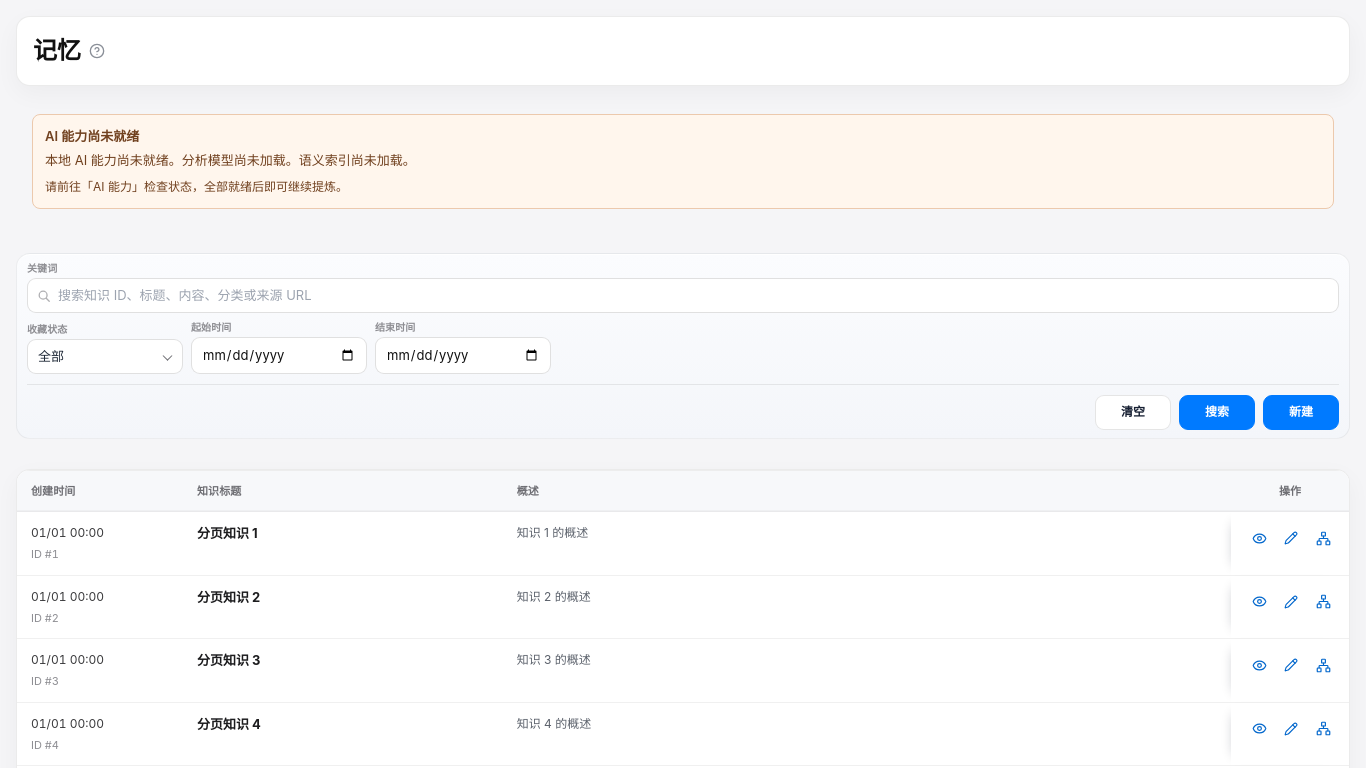
知识记忆分页 › 已收藏筛选中取消收藏后从下一页补齐 10 条，并同步筛选总数
Select "已收藏" in the dropdown labelled "收藏状态" at (105, 356), box [27, 339, 183, 374]
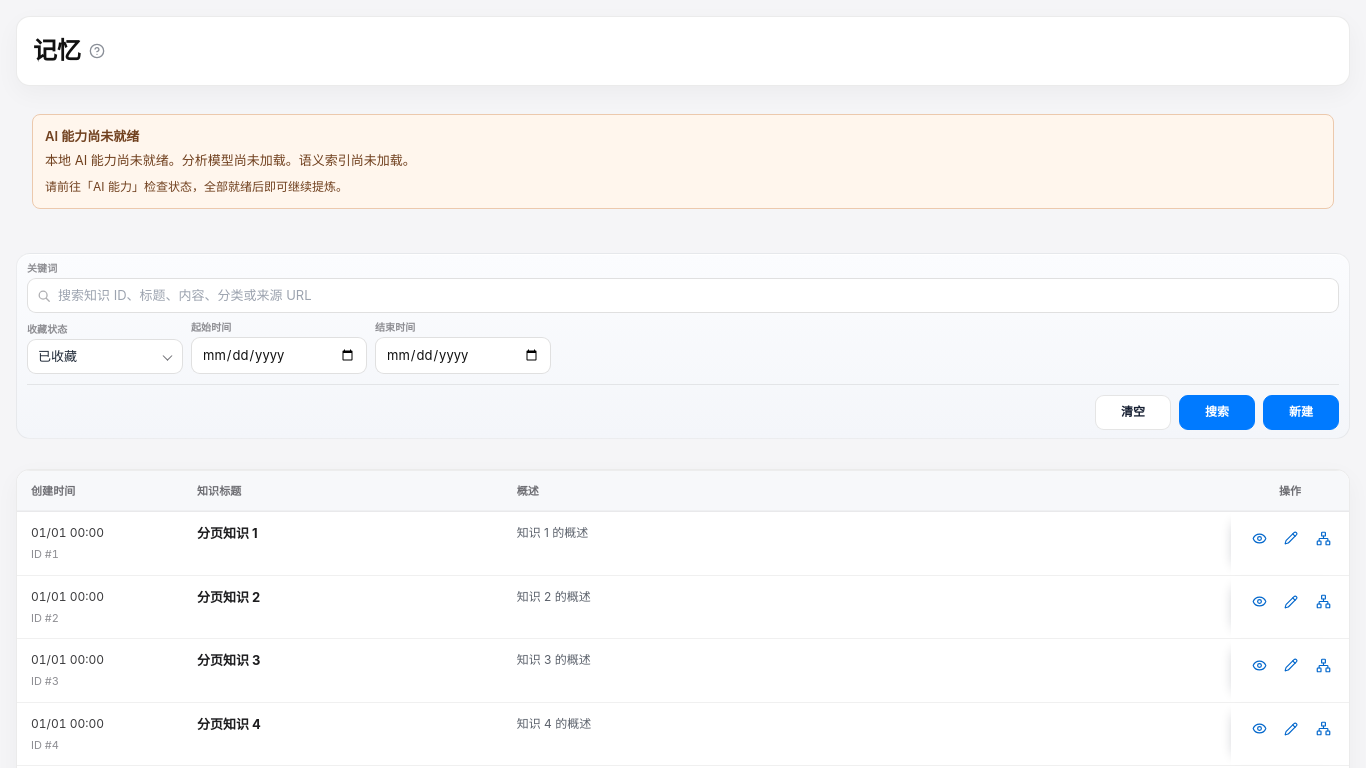
Click the button named "查看知识「分页知识 1」详情" at (1259, 538), box [1245, 524, 1273, 552]
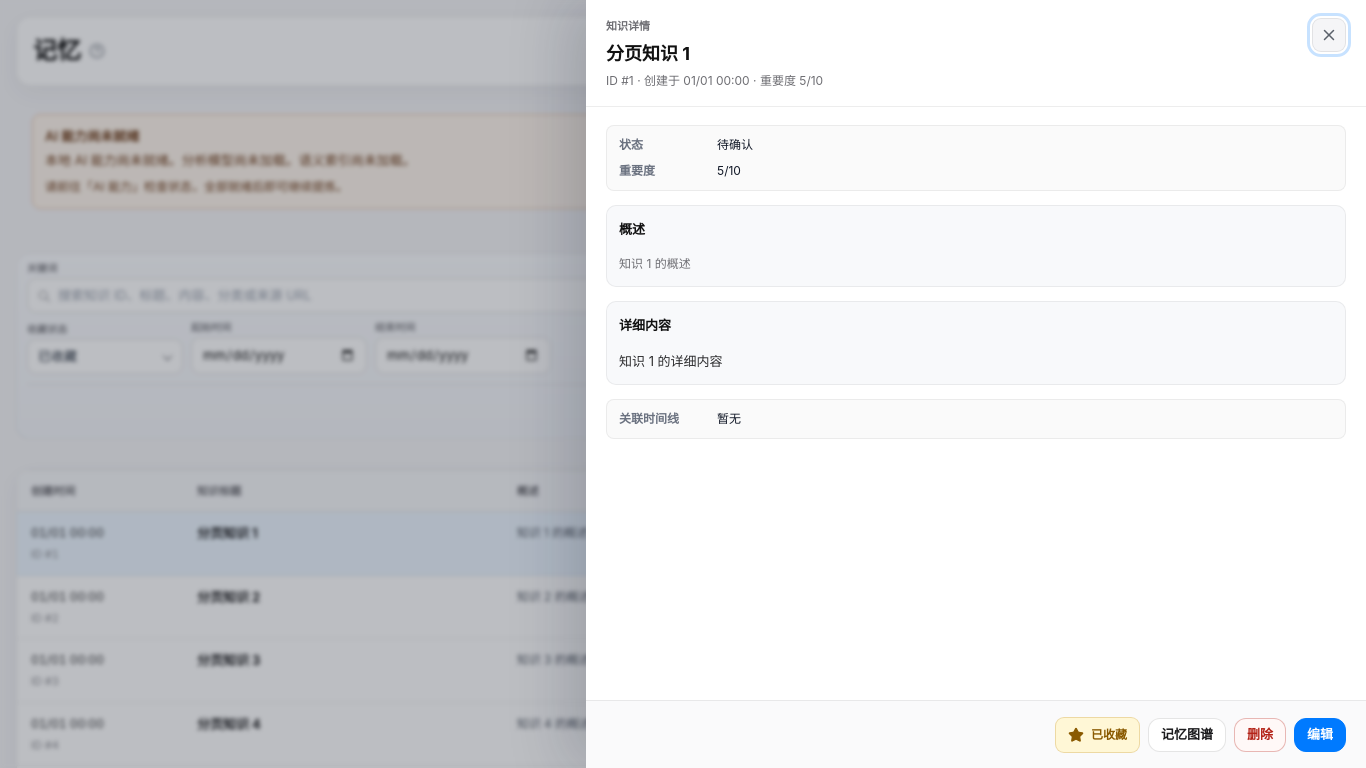
Click the button with aria-label "取消收藏" at (1097, 734), box [1055, 716, 1140, 752]
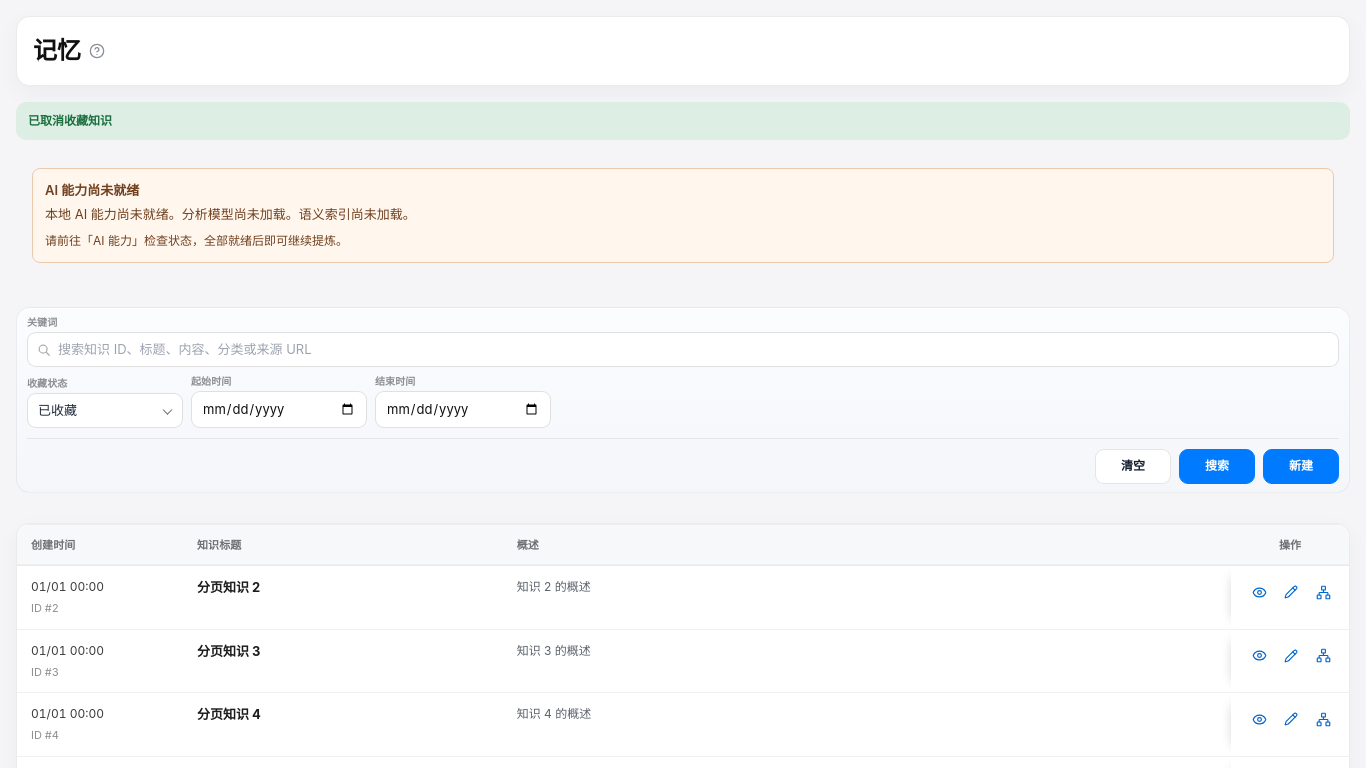
Now the text "分页知识 1" is gone
